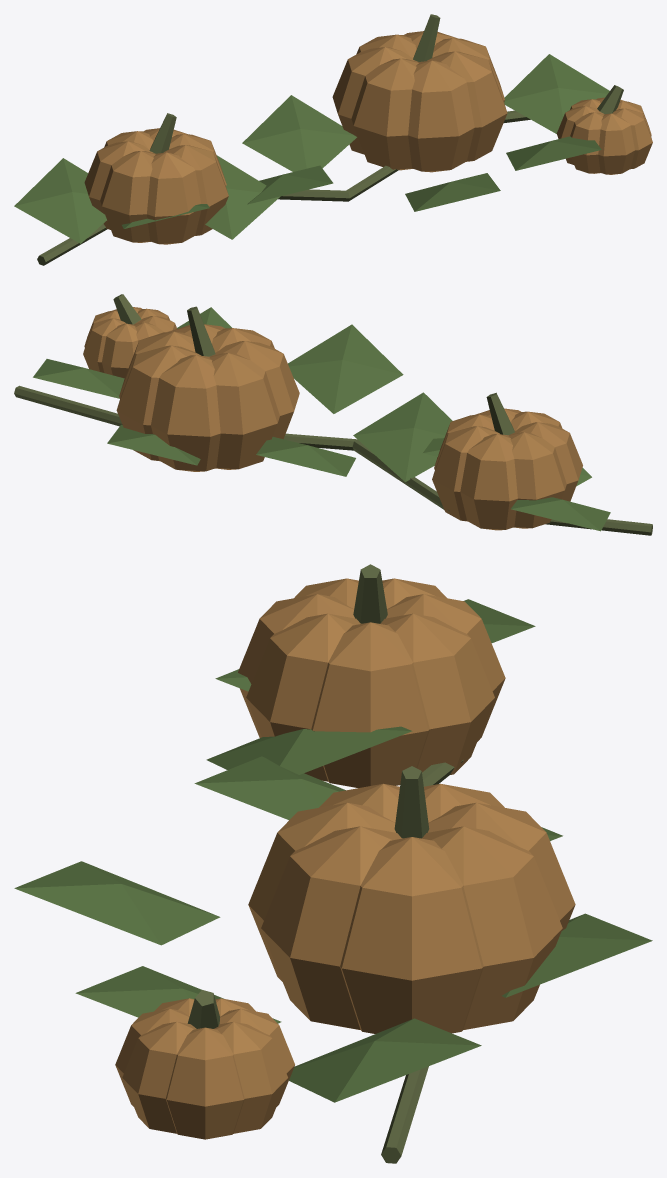
Rendered from Plant_Feature_Pastoral_PumpkinVines_001.glb.
3 views of the same model, one above another, from view 1: azimuth 30°, elevation 25°; view 2: azimuth 150°, elevation 25°; view 3: azimuth 270°, elevation 25° (orthographic). The views are drawn at different scales.
Parts seen in each view (by area): view 1: Plant_Feature_Pastoral_PumpkinVines_001; view 2: Plant_Feature_Pastoral_PumpkinVines_001; view 3: Plant_Feature_Pastoral_PumpkinVines_001.
Part boxes in pixels (left/top/right/bottom): Plant_Feature_Pastoral_PumpkinVines_001: left=14, top=14, right=652, bottom=265; Plant_Feature_Pastoral_PumpkinVines_001: left=14, top=294, right=652, bottom=535; Plant_Feature_Pastoral_PumpkinVines_001: left=14, top=564, right=652, bottom=1163.
Bounding box in the file's own units: 3.01 × 0.6803 × 1.55.
